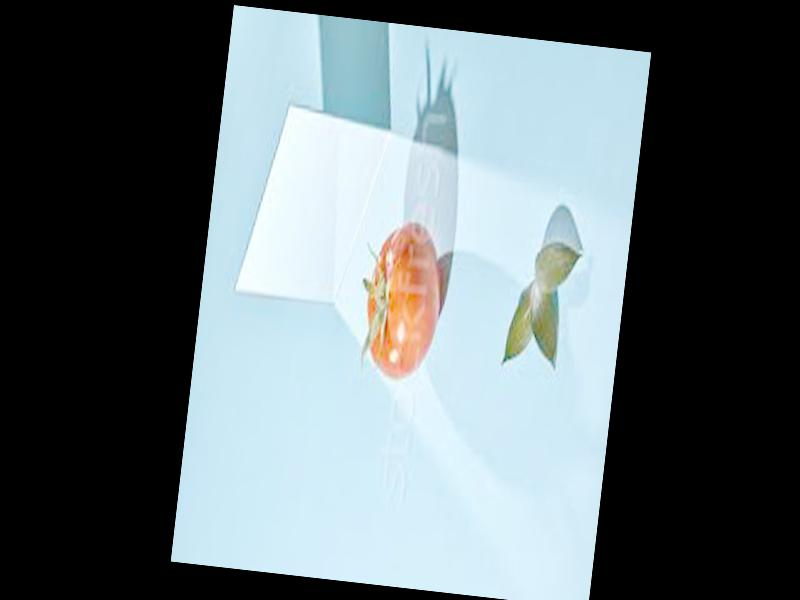Tomato: (357, 217, 448, 387)
